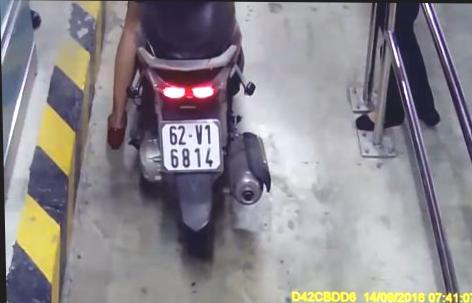License_Plate: (153, 115, 227, 180)
